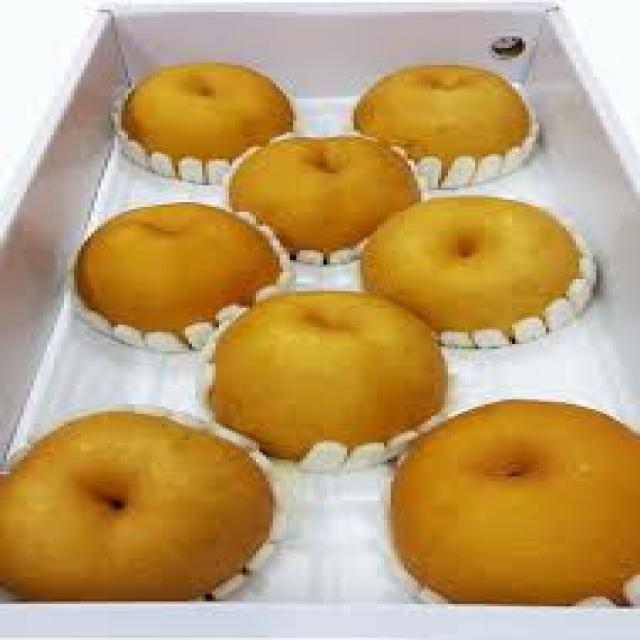Pear: (3, 416, 269, 602), (401, 403, 640, 606), (216, 294, 448, 461), (364, 197, 583, 332), (77, 205, 283, 333), (229, 137, 421, 254)
